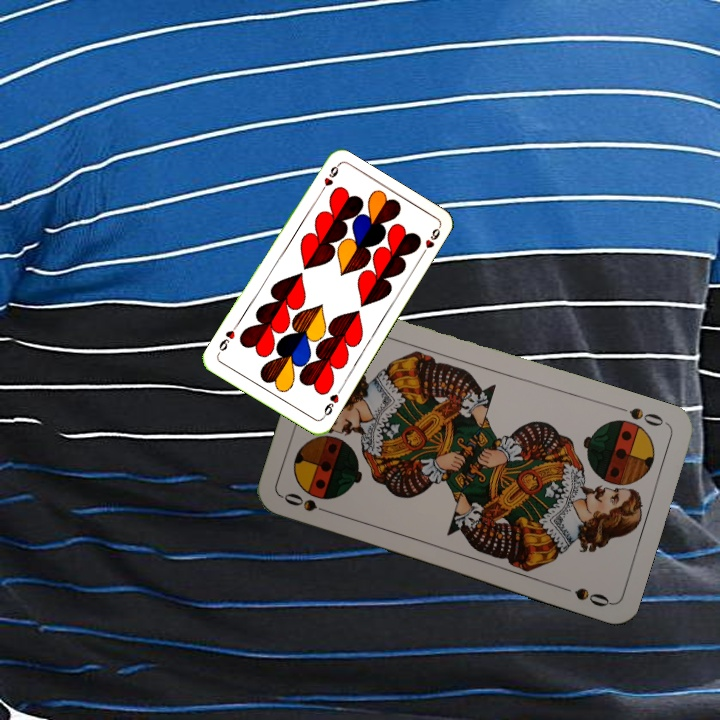H9: (314, 162, 341, 198), (318, 384, 344, 421)
SO: (279, 488, 337, 518), (612, 401, 669, 429)
